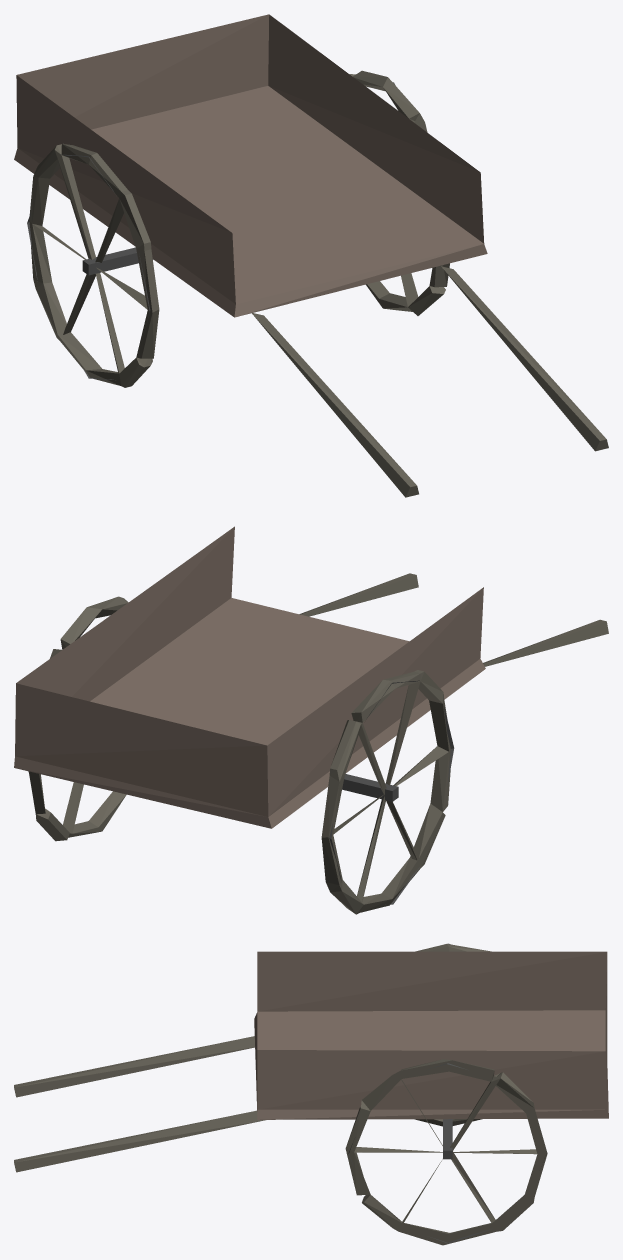
The model's file is cart-lod1.glb.
3 renders of one model, top to bottom at view 1: azimuth 30°, elevation 25°; view 2: azimuth 150°, elevation 25°; view 3: azimuth 270°, elevation 25°, orthographic. The views are drawn at different scales.
Size of the model in its own units: 1.8 by 1.27 by 3.69.
